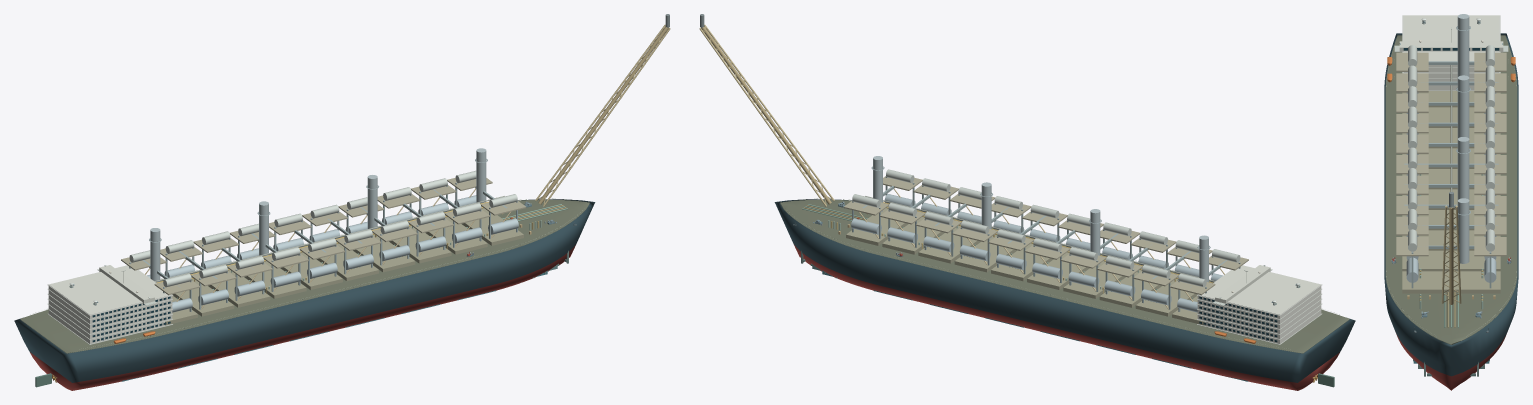
The model's file is one-guyana.lod1.glb.
3 views of the same model, side by side, from view 1: azimuth 30°, elevation 25°; view 2: azimuth 150°, elevation 25°; view 3: azimuth 270°, elevation 25° (orthographic). The views are drawn at different scales.
Parts seen in each view (by area): view 1: one-guyana.structure.hull.outer-hull-shell.1, one-guyana.structure.decks.main-strength-deck.1, one-guyana.structure.hull.antifouling-underwater-shell.1, one-guyana.accommodation.superstructure.deck-6-enclosure.1, one-guyana.cargo.flare.flare-boom.1, one-guyana.cargo.topside-processing.process-module-6.1, one-guyana.cargo.topside-processing.process-module-2.1, one-guyana.cargo.topside-processing.process-module-4.1, one-guyana.cargo.topside-processing.process-module-8.1, one-guyana.cargo.topside-processing.process-module-7.1, one-guyana.cargo.topside-processing.process-module-3.1, one-guyana.cargo.topside-processing.process-module-5.1 (+6 smaller); view 2: one-guyana.structure.hull.outer-hull-shell.1, one-guyana.structure.decks.main-strength-deck.1, one-guyana.structure.hull.antifouling-underwater-shell.1, one-guyana.accommodation.superstructure.deck-6-enclosure.1, one-guyana.cargo.flare.flare-boom.1, one-guyana.cargo.topside-processing.process-module-6.1, one-guyana.cargo.topside-processing.process-module-2.1, one-guyana.cargo.topside-processing.process-module-4.1, one-guyana.cargo.topside-processing.process-module-8.1, one-guyana.cargo.topside-processing.process-module-7.1, one-guyana.cargo.topside-processing.process-module-3.1, one-guyana.cargo.topside-processing.process-module-5.1 (+3 smaller); view 3: one-guyana.structure.decks.main-strength-deck.1, one-guyana.structure.hull.outer-hull-shell.1, one-guyana.accommodation.superstructure.deck-6-enclosure.1, one-guyana.cargo.topside-processing.process-module-10.1, one-guyana.cargo.topside-processing.process-module-9.1, one-guyana.cargo.topside-steelwork.process-service-deck-10-1 (×2), one-guyana.cargo.topside-steelwork.process-service-deck-6-1. (×2), one-guyana.cargo.topside-steelwork.process-service-deck-8-1. (×2), one-guyana.cargo.topside-steelwork.process-service-deck-1-1. (×2), one-guyana.cargo.topside-steelwork.process-service-deck-4-1. (×2), one-guyana.cargo.topside-steelwork.process-service-deck-5-1. (×2), one-guyana.cargo.topside-steelwork.process-service-deck-7-1. (×2) (+55 smaller).
Boxes of the visible parts, x1,y1,x2,y2 form: one-guyana.structure.hull.outer-hull-shell.1: (14, 199, 595, 382); one-guyana.structure.decks.main-strength-deck.1: (20, 199, 589, 353); one-guyana.structure.hull.antifouling-underwater-shell.1: (30, 245, 575, 390); one-guyana.accommodation.superstructure.deck-6-enclosure.1: (48, 265, 172, 318); one-guyana.cargo.flare.flare-boom.1: (538, 26, 668, 204); one-guyana.cargo.topside-processing.process-module-6.1: (317, 242, 378, 281); one-guyana.cargo.topside-processing.process-module-2.1: (172, 277, 234, 316); one-guyana.cargo.topside-processing.process-module-4.1: (244, 259, 306, 298); one-guyana.cargo.topside-processing.process-module-8.1: (389, 224, 451, 263); one-guyana.cargo.topside-processing.process-module-7.1: (353, 233, 415, 272); one-guyana.cargo.topside-processing.process-module-3.1: (208, 268, 270, 307); one-guyana.cargo.topside-processing.process-module-5.1: (280, 250, 342, 289); one-guyana.structure.hull.outer-hull-shell.1: (774, 199, 1355, 382); one-guyana.structure.decks.main-strength-deck.1: (780, 199, 1349, 353); one-guyana.structure.hull.antifouling-underwater-shell.1: (794, 245, 1339, 390); one-guyana.accommodation.superstructure.deck-6-enclosure.1: (1197, 265, 1321, 318); one-guyana.cargo.flare.flare-boom.1: (701, 26, 831, 204); one-guyana.cargo.topside-processing.process-module-6.1: (991, 242, 1052, 281); one-guyana.cargo.topside-processing.process-module-2.1: (1135, 277, 1197, 316); one-guyana.cargo.topside-processing.process-module-4.1: (1063, 259, 1125, 298); one-guyana.cargo.topside-processing.process-module-8.1: (918, 224, 980, 263); one-guyana.cargo.topside-processing.process-module-7.1: (954, 233, 1016, 272); one-guyana.cargo.topside-processing.process-module-3.1: (1099, 268, 1161, 307); one-guyana.cargo.topside-processing.process-module-5.1: (1027, 250, 1089, 289); one-guyana.structure.decks.main-strength-deck.1: (1385, 35, 1517, 344); one-guyana.structure.hull.outer-hull-shell.1: (1384, 33, 1518, 376); one-guyana.accommodation.superstructure.deck-6-enclosure.1: (1403, 15, 1499, 66); one-guyana.cargo.topside-processing.process-module-10.1: (1402, 271, 1500, 293); one-guyana.cargo.topside-processing.process-module-9.1: (1402, 250, 1500, 271); one-guyana.cargo.topside-steelwork.process-service-deck-10-1 (×2): (1396, 237, 1506, 256); one-guyana.cargo.topside-steelwork.process-service-deck-6-1. (×2): (1396, 155, 1506, 174); one-guyana.cargo.topside-steelwork.process-service-deck-8-1. (×2): (1396, 196, 1506, 215); one-guyana.cargo.topside-steelwork.process-service-deck-1-1. (×2): (1396, 52, 1506, 71); one-guyana.cargo.topside-steelwork.process-service-deck-4-1. (×2): (1396, 114, 1506, 133); one-guyana.cargo.topside-steelwork.process-service-deck-5-1. (×2): (1396, 134, 1506, 153); one-guyana.cargo.topside-steelwork.process-service-deck-7-1. (×2): (1396, 175, 1506, 194).
Bounding box in the file's own units: 379 × 125 × 60.
